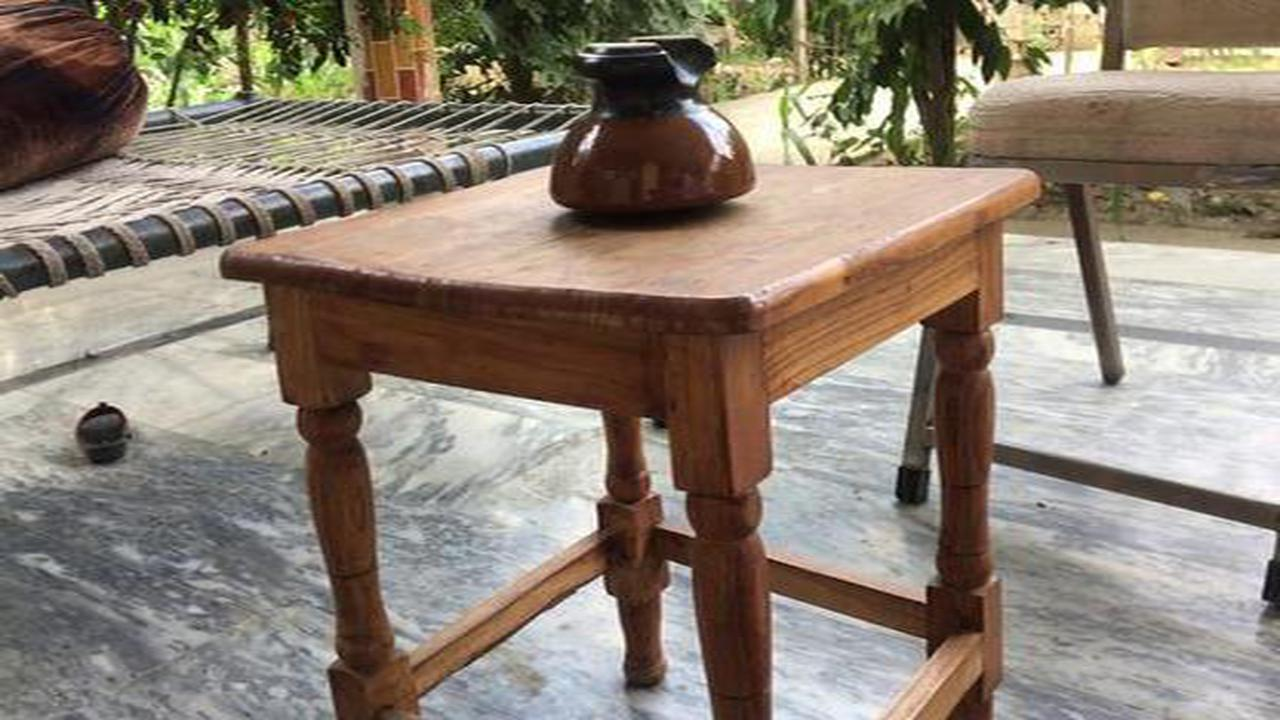insulator_pin: (530, 28, 767, 231)
